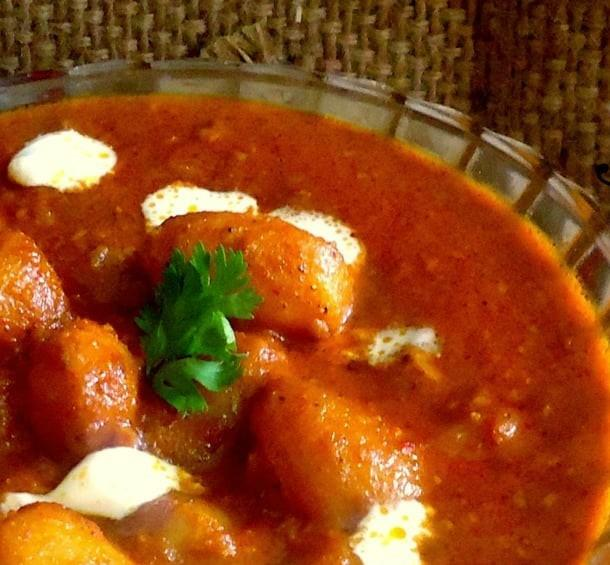DumAloo: (0, 95, 610, 565)
